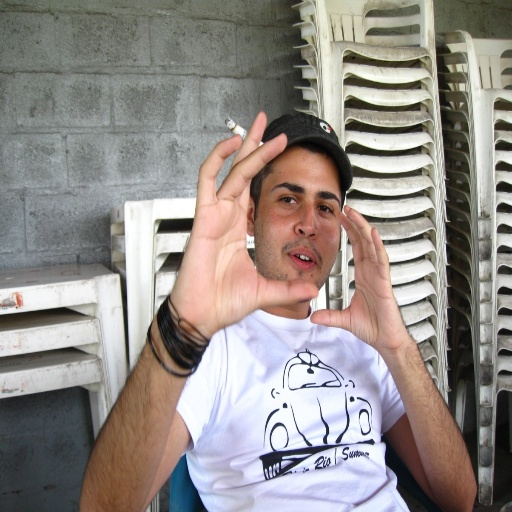hand: (170, 109, 317, 337), (309, 203, 407, 354)
